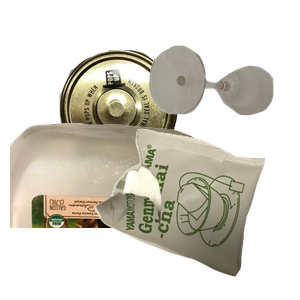glass: (147, 43, 300, 151)
metal: (57, 47, 227, 211)
plastic: (10, 120, 220, 300)
trash: (93, 126, 300, 300)
